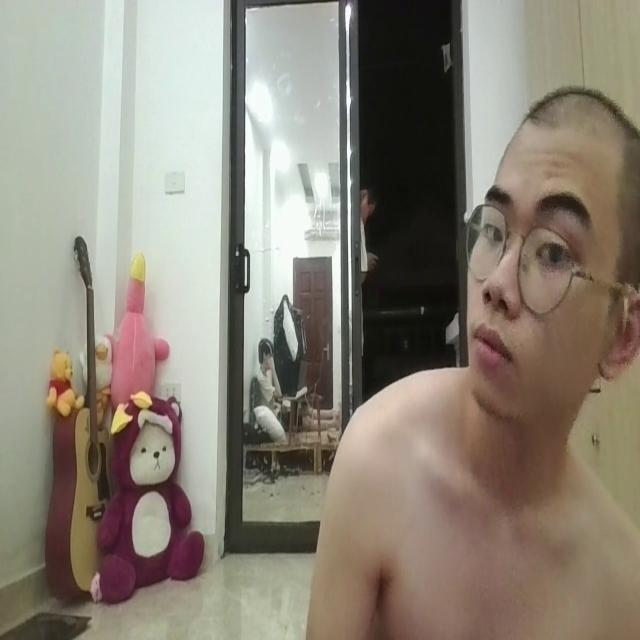extra_person: (250, 310, 304, 458), (360, 151, 388, 388)
student: (308, 77, 640, 640)
